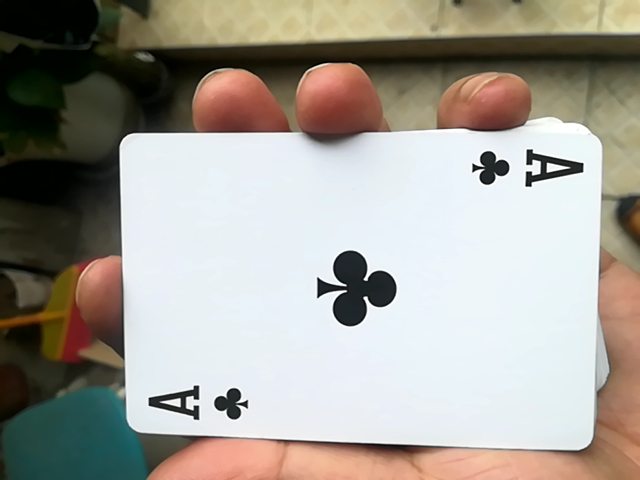mh a: (103, 124, 607, 463)
